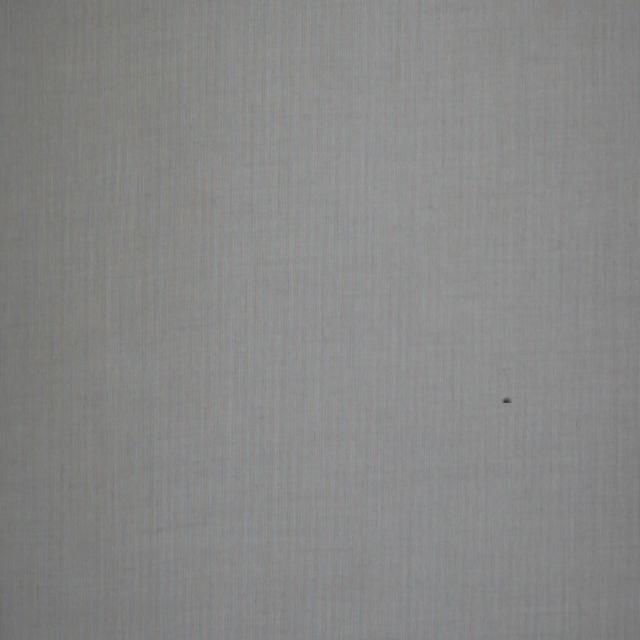dirty: (502, 391, 513, 411)
